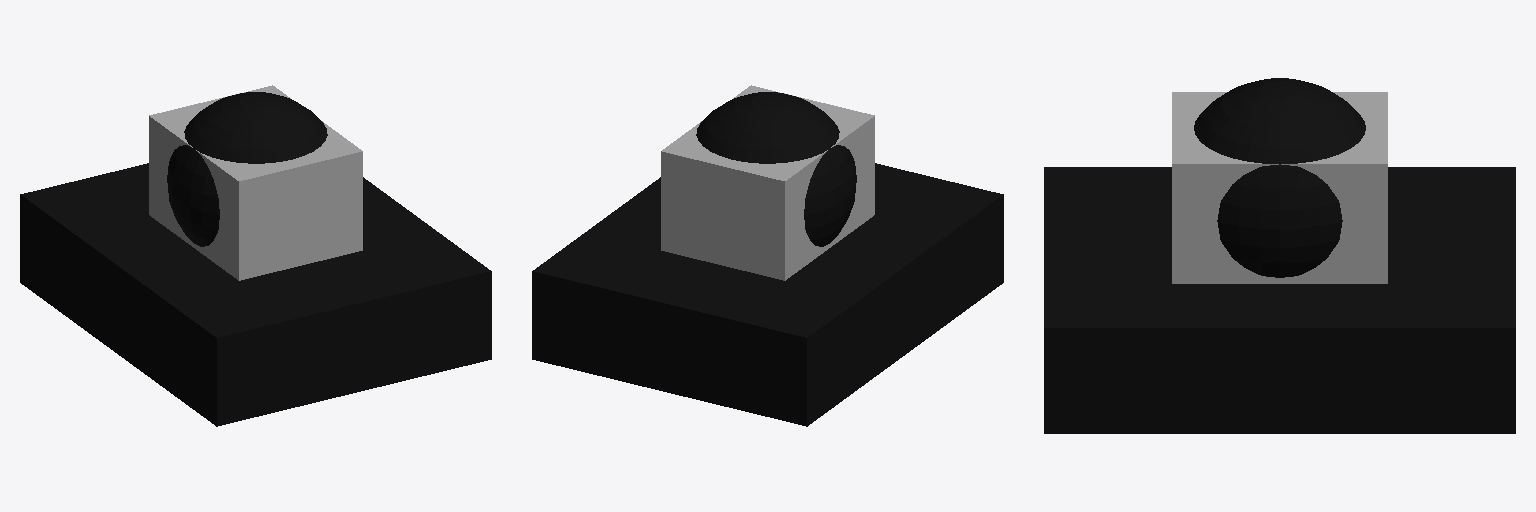
robot.urdf — evolved_robot:
<?xml version="1.0"?>
<robot name="evolved_robot">
  <material name="metal">
    <color rgba="0.7 0.7 0.7 1.0"/>
  </material>
  <material name="plastic">
    <color rgba="0.3 0.3 0.9 1.0"/>
  </material>
  <material name="rubber">
    <color rgba="0.1 0.1 0.1 1.0"/>
  </material>
  <material name="red">
    <color rgba="1.0 0.0 0.0 1.0"/>
  </material>
  <material name="wheel_material">
    <color rgba="0.2 0.2 0.2 1.0"/>
  </material>
  <link name="base_link">
    <visual>
      <geometry><box size="0.27681445085347733 0.34240536522699816 0.08528316909664546"/></geometry>
      <material name="rubber"/>
    </visual>
    <collision>
      <geometry><box size="0.27681445085347733 0.34240536522699816 0.08528316909664546"/></geometry>
    </collision>
    <inertial>
      <mass value="5.0"/>
      <inertia ixx="0.10376221088950087" ixy="0" ixz="0" 
               iyy="0.06991621594373269" iyz="0" 
               izz="0.1615563952812885"/>
    </inertial>
  </link>
  <link name="link1">
    <visual>
      <geometry>
        <cylinder radius="0.06669969075575738" length="0.054827935651982254"/>
      </geometry>
      <material name="wheel_material"/>
    </visual>
    <collision>
      <geometry>
        <cylinder radius="0.06669969075575738" length="0.054827935651982254"/>
      </geometry>
    </collision>
    <inertial>
      <mass value="1.0"/>
      <inertia ixx="0.0013627207307165756" ixy="0" ixz="0" 
               iyy="0.0013627207307165756" iyz="0" 
               izz="0.002224424373456833"/>
    </inertial>
  </link>
  <joint name="joint1" type="continuous">
    <parent link="base_link"/>
    <child link="link1"/>
    <origin xyz="0 0 0" rpy="1.5708 0 0"/>
    <axis xyz="0 1 0"/>
    <dynamics damping="0.6679796607289551" friction="0.1"/>
  </joint>
  <link name="link2">
    <visual>
      <geometry><box size="0.12521376474294132 0.15726580780305835 0.1911825894407161"/></geometry>
      <material name="metal"/>
    </visual>
    <collision>
      <geometry><box size="0.12521376474294132 0.15726580780305835 0.1911825894407161"/></geometry>
    </collision>
    <inertial>
      <mass value="0.5"/>
      <inertia ixx="0.005106943067433825" ixy="0" ixz="0" 
               iyy="0.004352439115529839" iyz="0" 
               izz="0.003367585098754096"/>
    </inertial>
  </link>
  <joint name="joint2" type="prismatic">
    <parent link="base_link"/>
    <child link="link2"/>
    <origin xyz="0 0 0.04264158454832273" rpy="0 0 0"/>
    <axis xyz="0.6356562384763904 -0.7670835808562472 0.08674056990130805"/>
    <dynamics damping="0.6447357456982021" friction="0.1"/>
    <limit lower="-1.6972199480639334" upper="1.8754259888622902" effort="100" velocity="100"/>
  </joint>
  <link name="link3">
    <visual>
      <geometry><sphere radius="0.07767720841728659"/></geometry>
      <material name="rubber"/>
    </visual>
    <collision>
      <geometry><sphere radius="0.07767720841728659"/></geometry>
    </collision>
    <inertial>
      <mass value="0.5"/>
      <inertia ixx="0.002413499483001032" ixy="0" ixz="0" 
               iyy="0.002413499483001032" iyz="0" 
               izz="0.002413499483001032"/>
    </inertial>
  </link>
  <joint name="joint3" type="prismatic">
    <parent link="base_link"/>
    <child link="link3"/>
    <origin xyz="0 0 0.09264158454832273" rpy="0 0 0"/>
    <axis xyz="-0.3656384771534133 0.8991751851725522 -0.24040068717630436"/>
    <dynamics damping="0.8377555201922987" friction="0.1"/>
    <limit lower="-0.6856849405748834" upper="1.1332464150860828" effort="100" velocity="100"/>
  </joint>
</robot>

--- Facts derived from the render (not from the file) ---
The picture shows the robot from 3 angles, left to right: view 1: azimuth 30°, elevation 25°; view 2: azimuth 150°, elevation 25°; view 3: azimuth 270°, elevation 25°; orthographic projection.
Robot: evolved_robot — 4 links, 3 joints (1 continuous, 2 prismatic); root link base_link; default pose: all joints at 0.
Links seen in each view (by area): view 1: base_link, link2, link3; view 2: base_link, link2, link3; view 3: base_link, link3, link2.
Link boxes in pixels (x1,y1,x2,y2): base_link: (20, 163, 491, 426); link2: (149, 85, 362, 280); link3: (167, 92, 327, 246); base_link: (532, 163, 1003, 426); link2: (661, 85, 874, 280); link3: (696, 92, 856, 246); base_link: (1044, 167, 1515, 433); link3: (1194, 78, 1365, 277); link2: (1172, 92, 1387, 283).
Size in the robot's own frame: 0.2768 by 0.3424 by 0.237 metres.
Geometry: primitives only (box / cylinder / sphere), no mesh files.